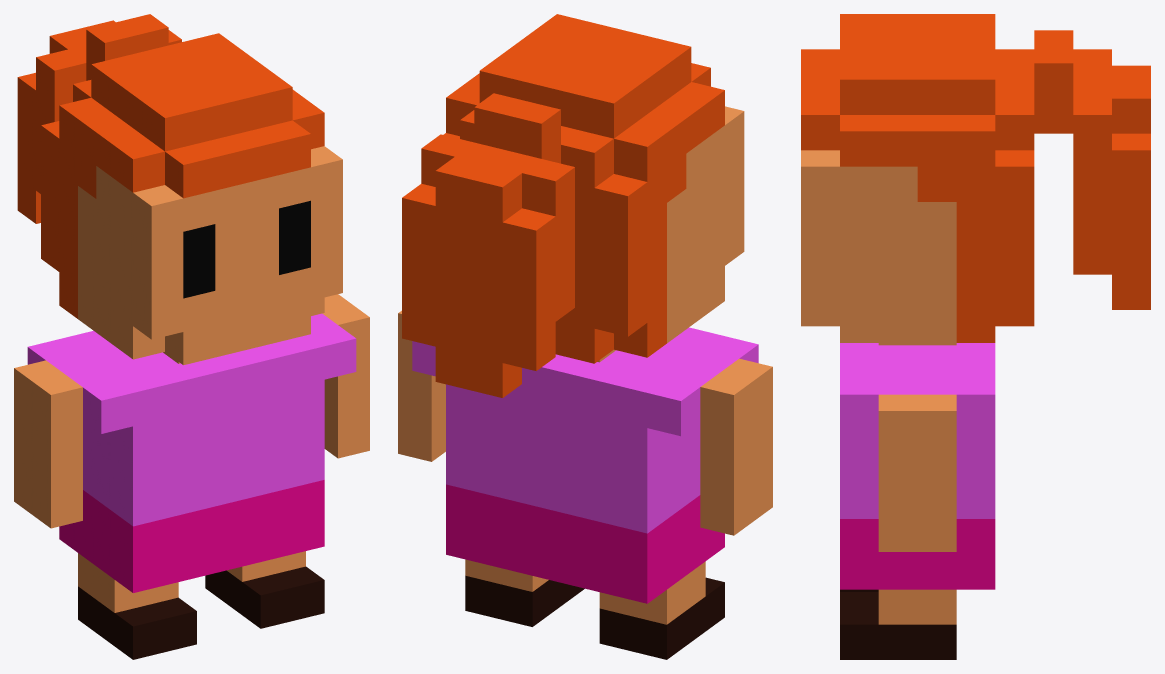
Rendered from girl.obj.
3 views of the same model, side by side, from view 1: azimuth 30°, elevation 25°; view 2: azimuth 150°, elevation 25°; view 3: azimuth 270°, elevation 25° (orthographic). The views are drawn at different scales.
Parts seen in each view (by area): view 1: Cube.100_Cube.101; view 2: Cube.100_Cube.101; view 3: Cube.100_Cube.101.
Boxes of the visible parts, x1,y1,x2,y2 form: Cube.100_Cube.101: [14, 14, 369, 659]; Cube.100_Cube.101: [398, 14, 772, 659]; Cube.100_Cube.101: [801, 14, 1150, 659].
Size of the model in its own units: 0.625 by 1 by 0.5625.
